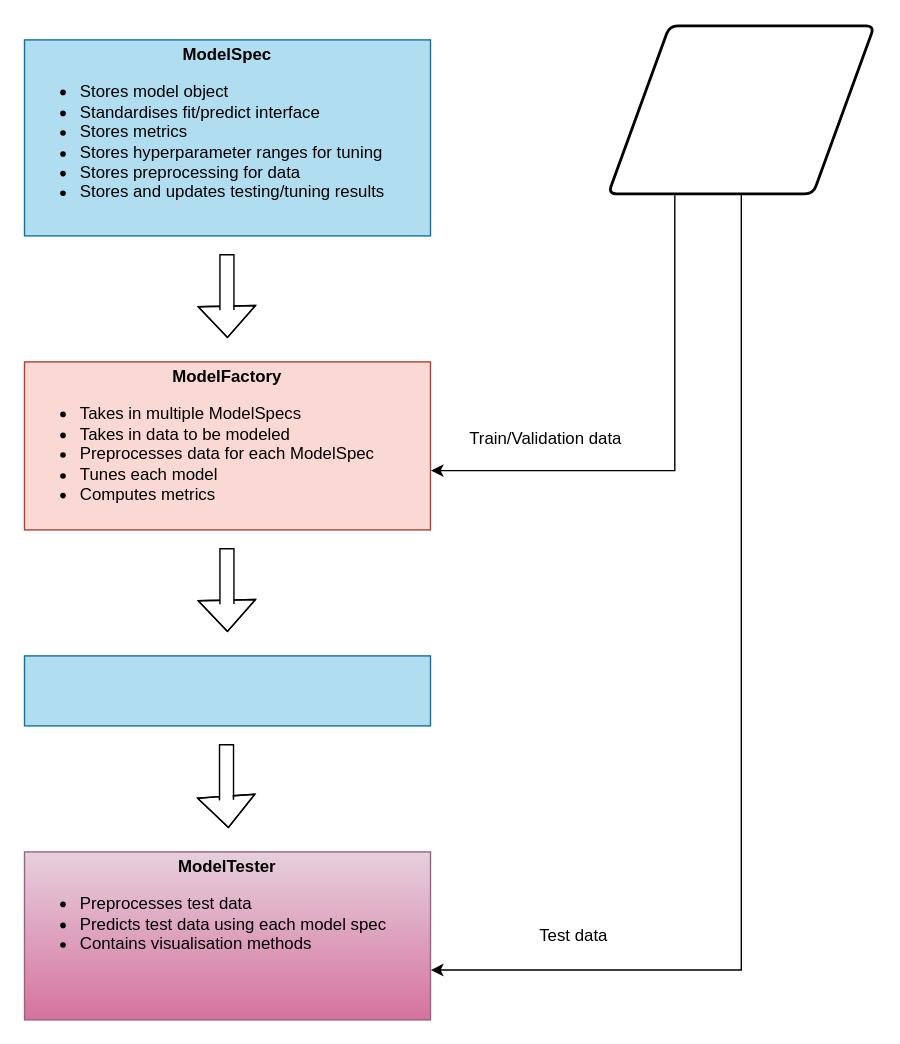
This 900x1044 diagram has some shape labels left out. Each missing label, with the centre of its shape:
Full raw data: the point at 740,109
Tuned ModelSpec Same but stores tuning history: the point at 226,690
